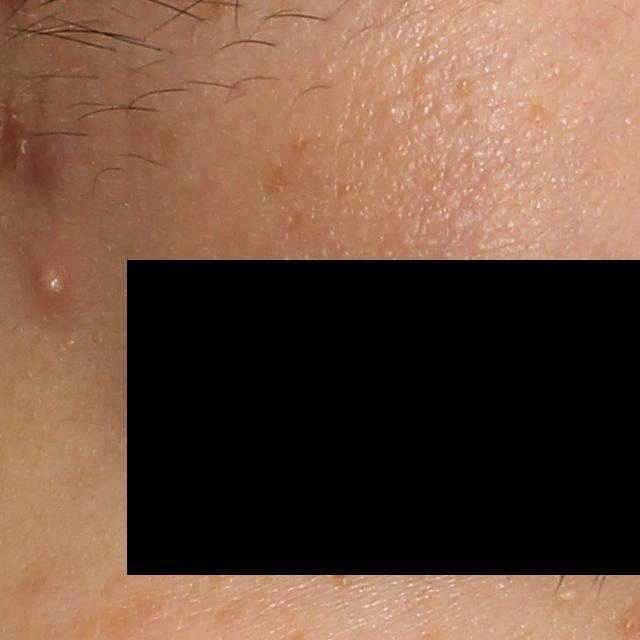melasma: (11, 554, 82, 603)
pustule: (25, 249, 72, 306)
